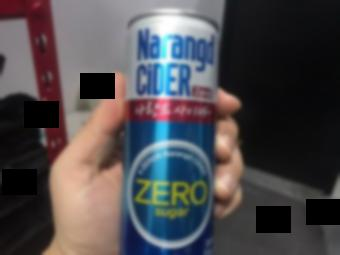narangdcider: (126, 6, 220, 254)
